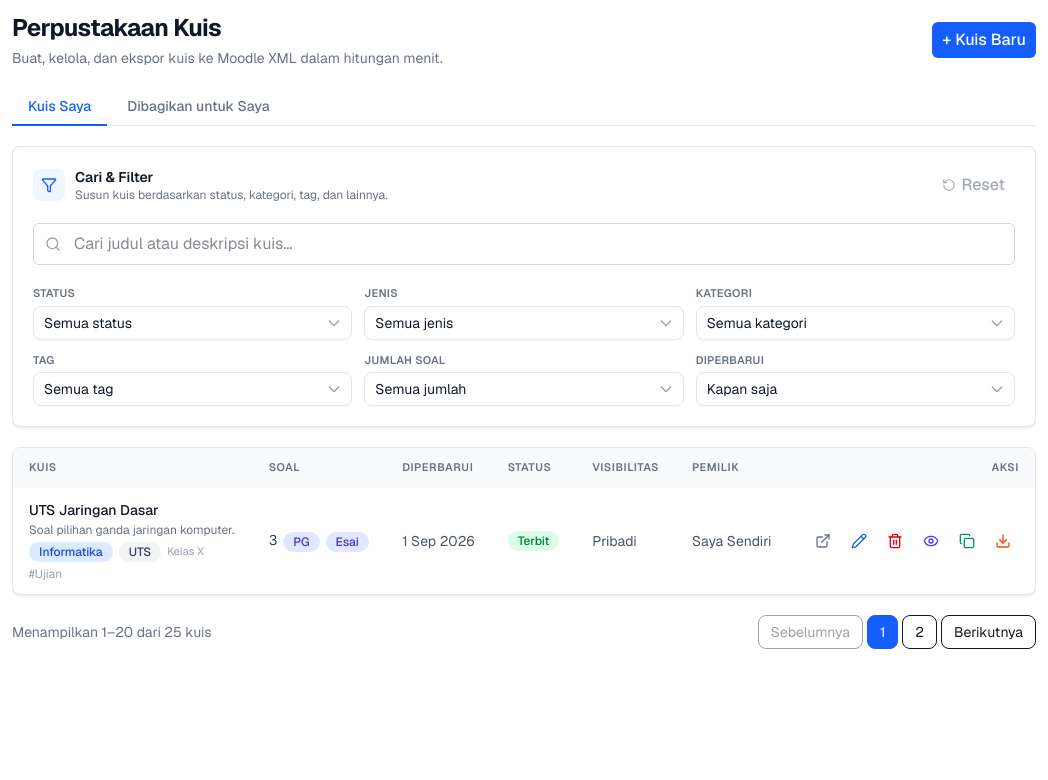
Test: QuizLibrary › duplicates a shared quiz into My Quizzes
Check: the text "Menampilkan 1–20 dari 25 kuis" is shown, box 12,622 -> 212,642
Click the button with test id "quiz-tab-shared". click: (198, 107)
box: 111,88 -> 286,126
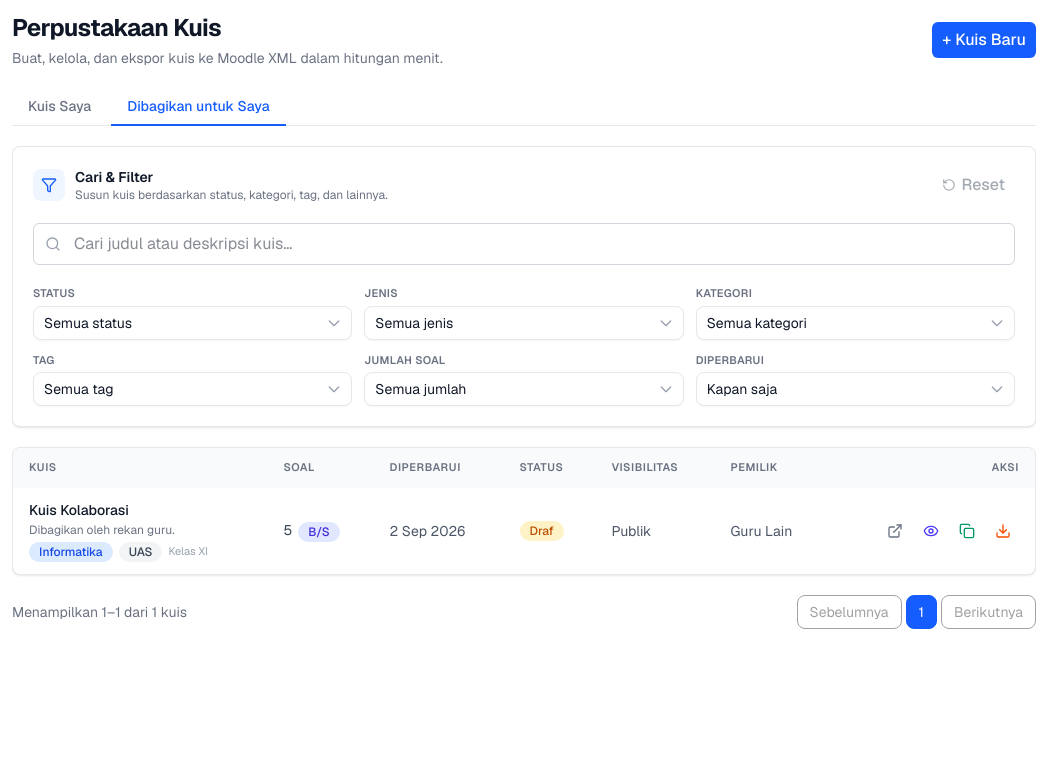
Click the button with test id "quiz-action-2-duplicate". click: (967, 531)
box: 951,515 -> 983,547
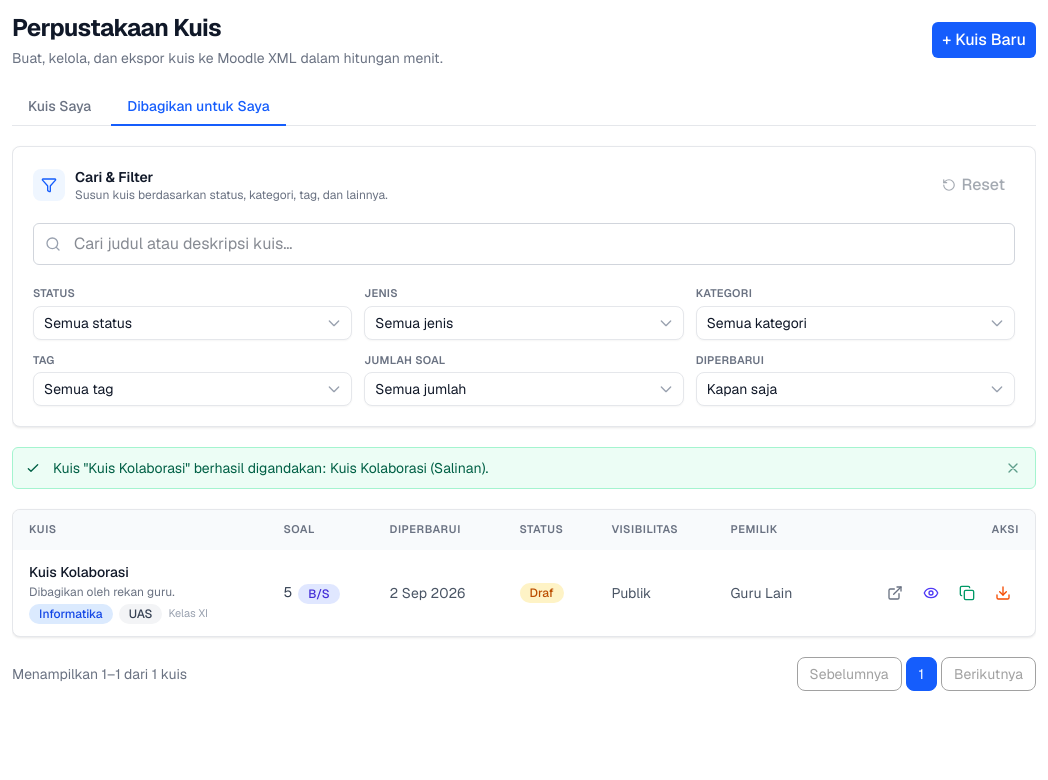
Check: the element with test id "quiz-notice" shows "Kuis Kolaborasi", box 53,459 -> 488,477
